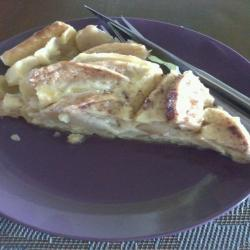apple_pie: (4, 20, 250, 170)
